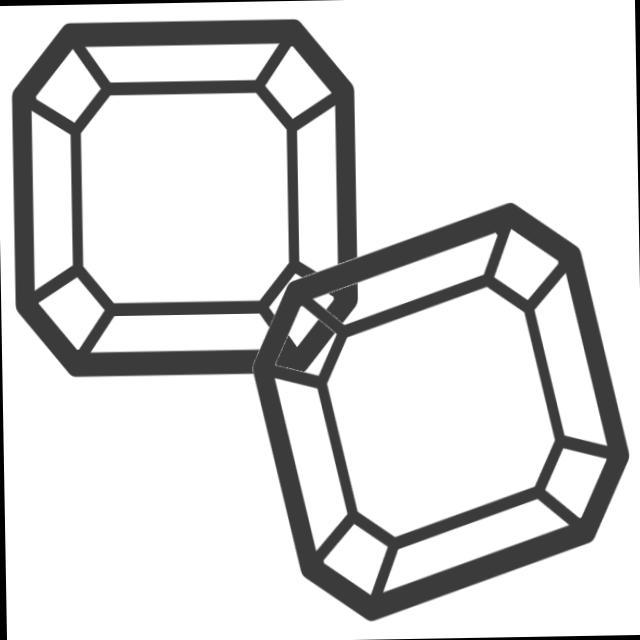emerald: (239, 188, 640, 629), (4, 13, 368, 387)
